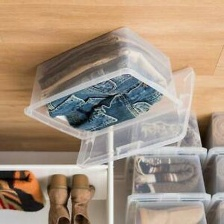plastic_box: (17, 21, 202, 175), (119, 105, 211, 192), (121, 150, 214, 223), (117, 196, 214, 223)
